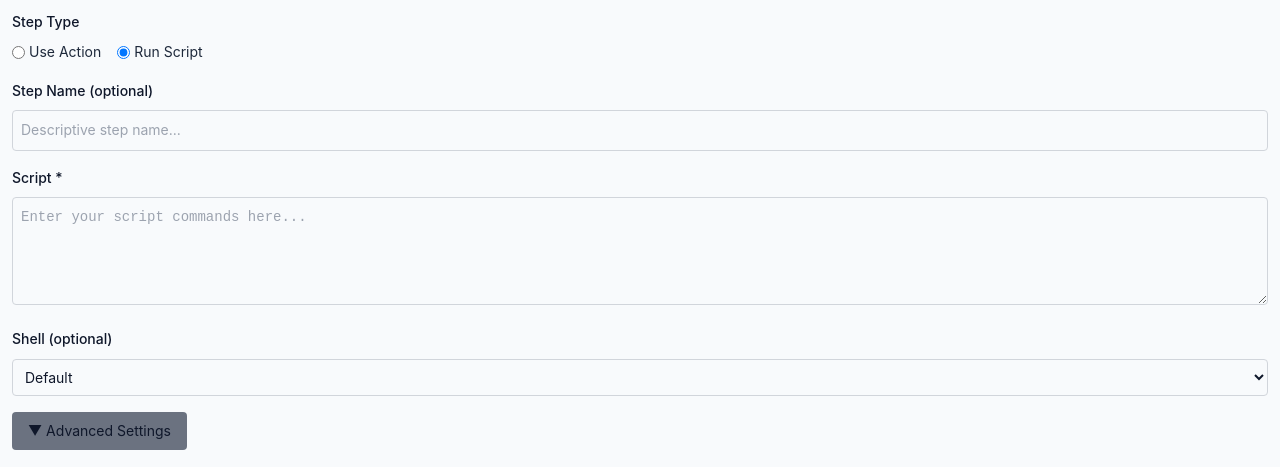
Test case: StepFields imported actions › renders the branding icon on a menu item when the imported action has one
Click the radio button named "Use Action". click: [18, 53]
box: [12,46,25,59]
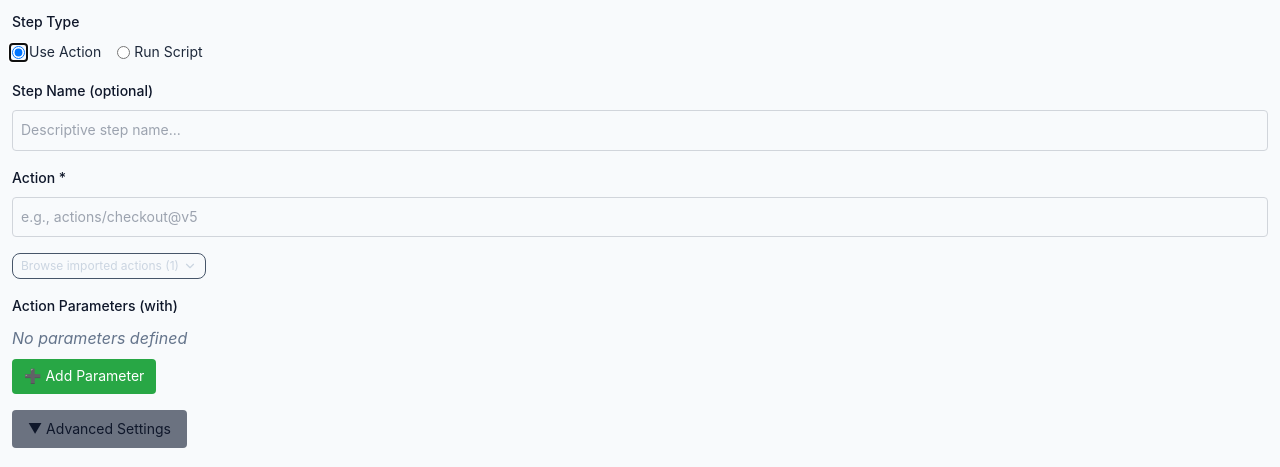
Click the button "Browse imported actions (1)". click: [109, 266]
box: [12,253,206,279]
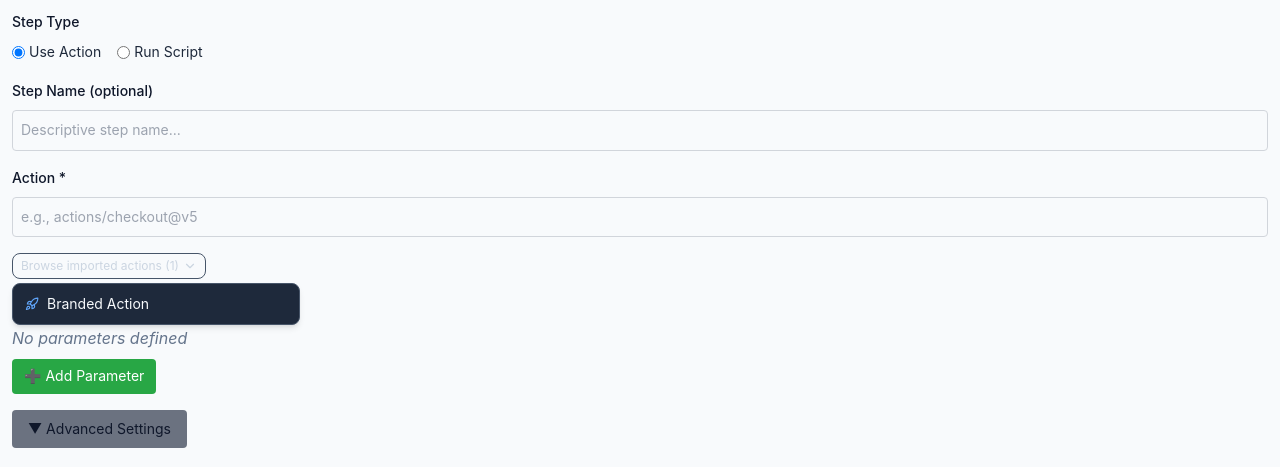
Expected: the icon next to "Branded Action" is shown, [25,297,39,311]
